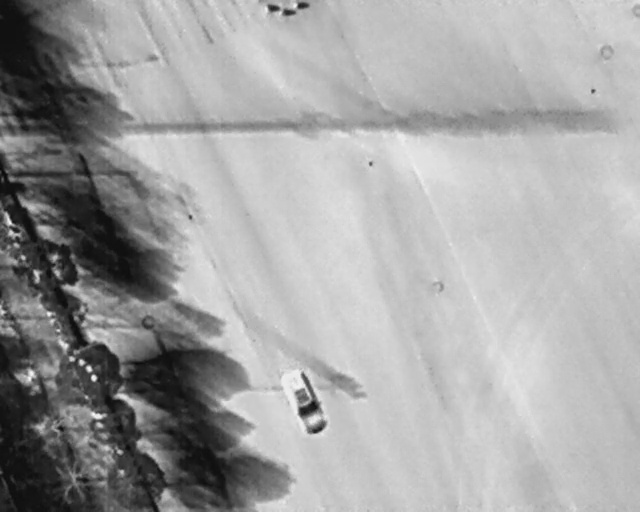Car: (278, 364, 332, 439)
